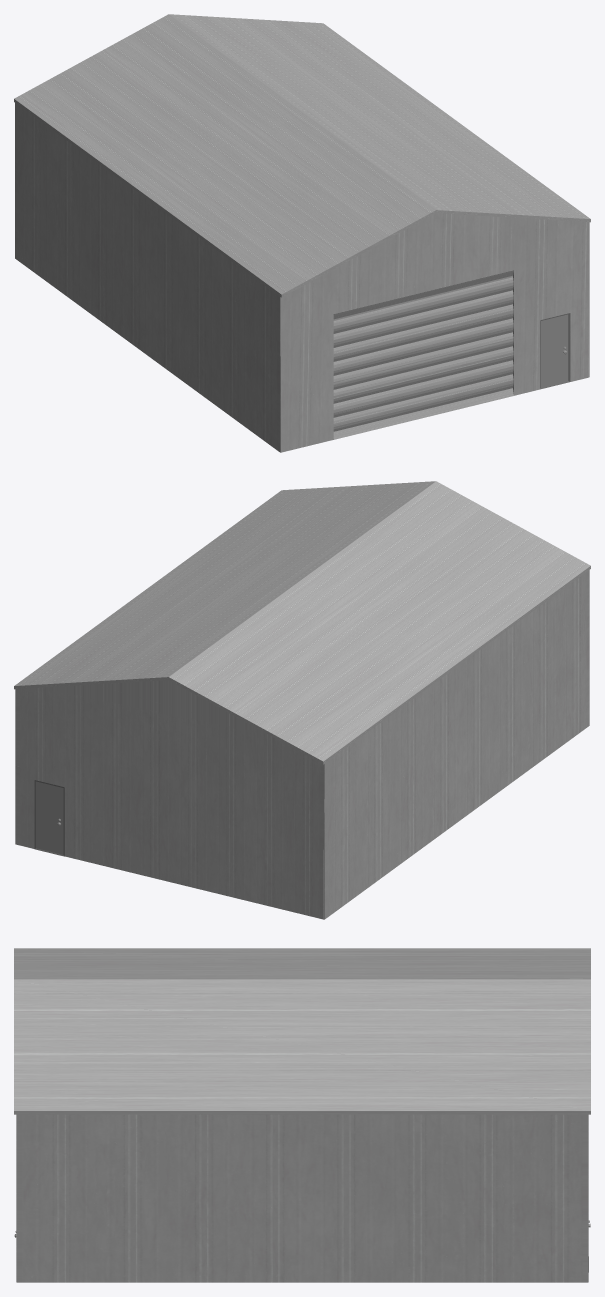
Rendered from shed.gltf.
3 views of the same model, one above another, from view 1: azimuth 30°, elevation 25°; view 2: azimuth 150°, elevation 25°; view 3: azimuth 270°, elevation 25° (orthographic). The views are drawn at different scales.
Visible parts, largest first — view 1: Roof, Wall_L, Wall_F, Door Bit, Front; view 2: Roof, Wall_B, Wall_L, Back; view 3: Wall_R, Roof.
Part boxes in pixels (<box>): Roof: <box>14,14,590,297</box>; Wall_L: <box>15,103,280,452</box>; Wall_F: <box>280,213,589,452</box>; Door Bit: <box>333,270,513,439</box>; Front: <box>540,313,569,389</box>; Roof: <box>14,481,590,764</box>; Wall_B: <box>15,680,324,919</box>; Wall_L: <box>324,570,589,919</box>; Back: <box>34,780,64,856</box>; Wall_R: <box>16,1113,588,1282</box>; Roof: <box>14,948,590,1114</box>.
Size of the model in its own units: 10.3 by 6.55 by 15.43.
